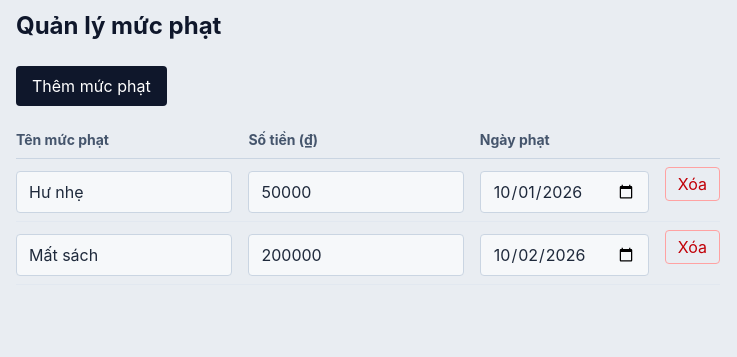
Scenario: FineLevels › saves an inline edit on Enter
The width and height of the screenshot is (737, 357).
Expected: the field named "Tên mức phạt Hư nhẹ" is shown, [16, 171, 232, 213]
Replace the text in the field named "Số tiền Hư nhẹ" with "70000": (356, 192) [248, 171, 464, 213]
Then press Enter
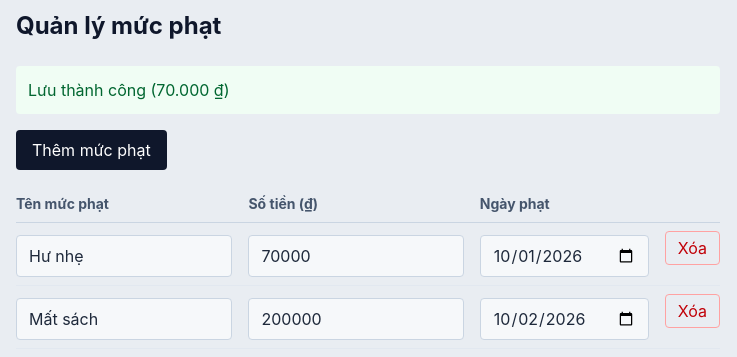
Expected: the message shows "Lưu thành công", [28, 80, 230, 100]
